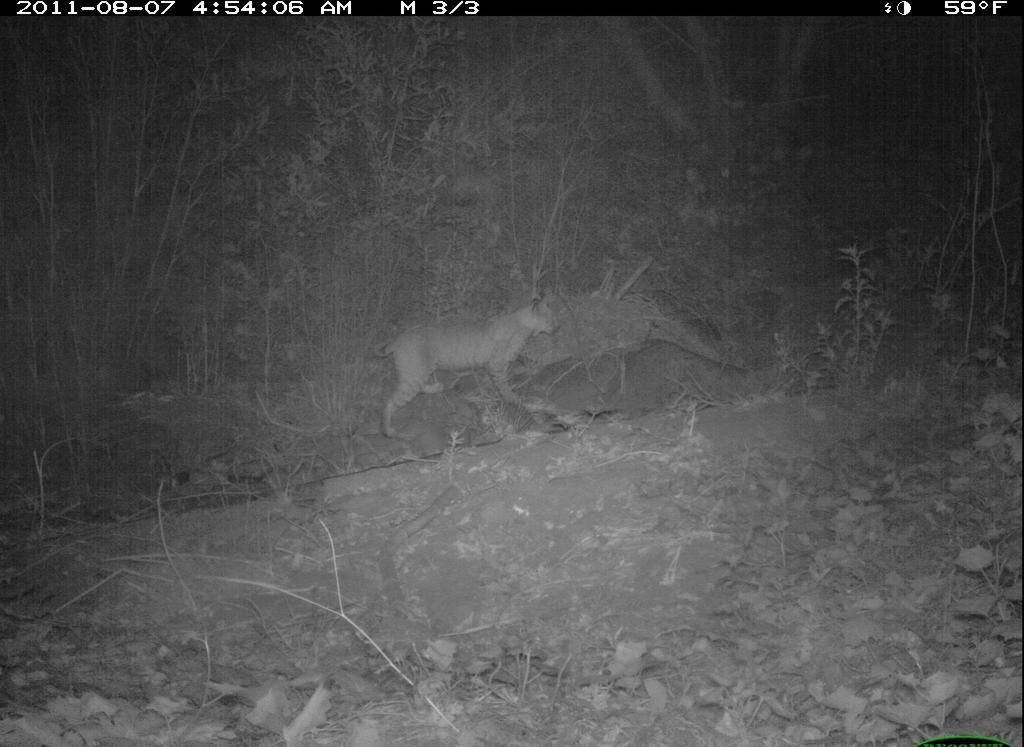bobcat: (361, 292, 573, 440)
